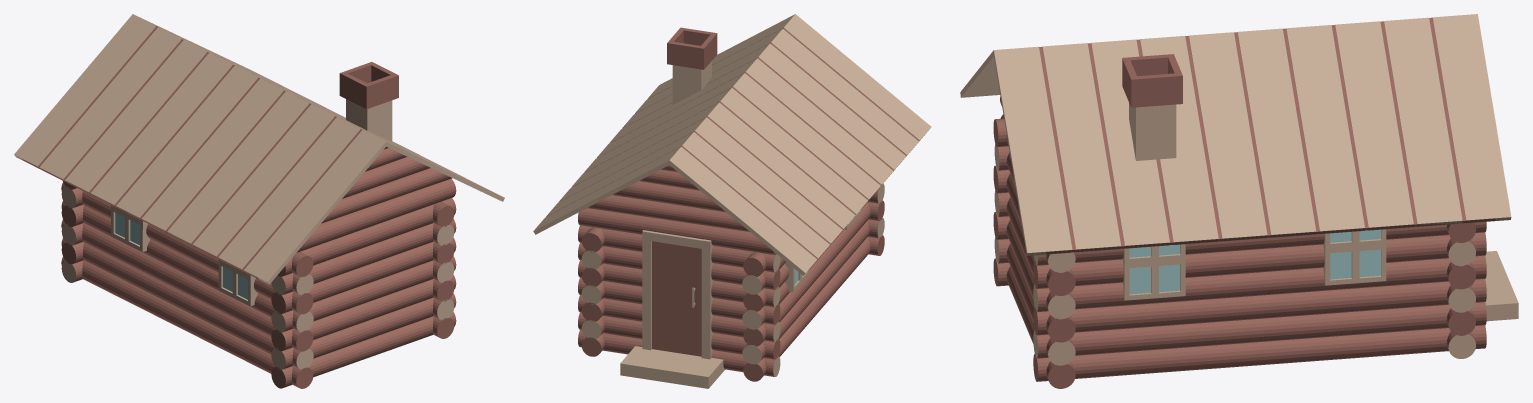
Rendered from Cabin.gltf.
The picture shows the model from 3 angles, left to right: view 1: azimuth 30°, elevation 25°; view 2: azimuth 150°, elevation 25°; view 3: azimuth 270°, elevation 25°; orthographic projection. The views are drawn at different scales.
Visible parts, largest first — view 1: node-0; view 2: node-0; view 3: node-0.
Part boxes in pixels (x1,y1,x2,y2): node-0: (14, 14, 504, 388); node-0: (533, 14, 931, 388); node-0: (960, 14, 1518, 388).
Size of the model in its own units: 487220 by 341113 by 583749.
